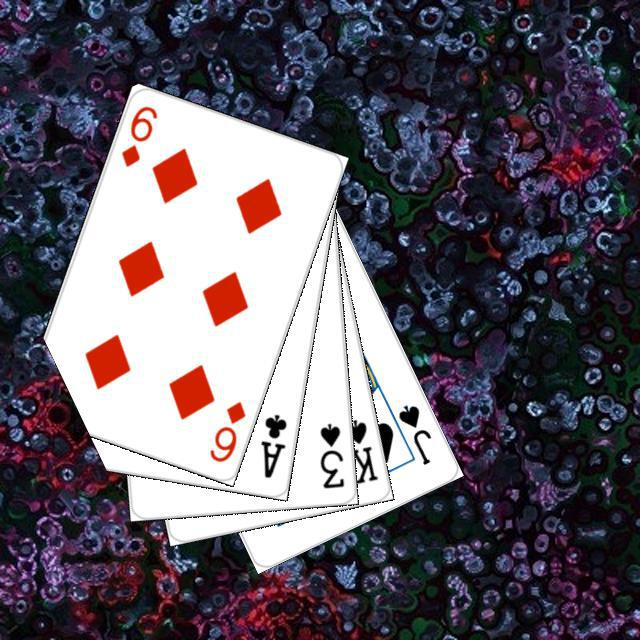3s: (315, 418, 346, 490)
6d: (204, 396, 248, 464), (116, 101, 159, 169)
Ac: (256, 409, 289, 480)
Js: (393, 400, 433, 467)
Ks: (340, 414, 380, 486)
